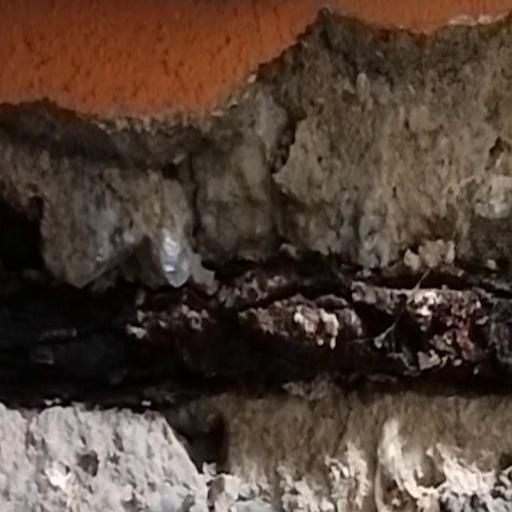spalling: (7, 12, 512, 481)
